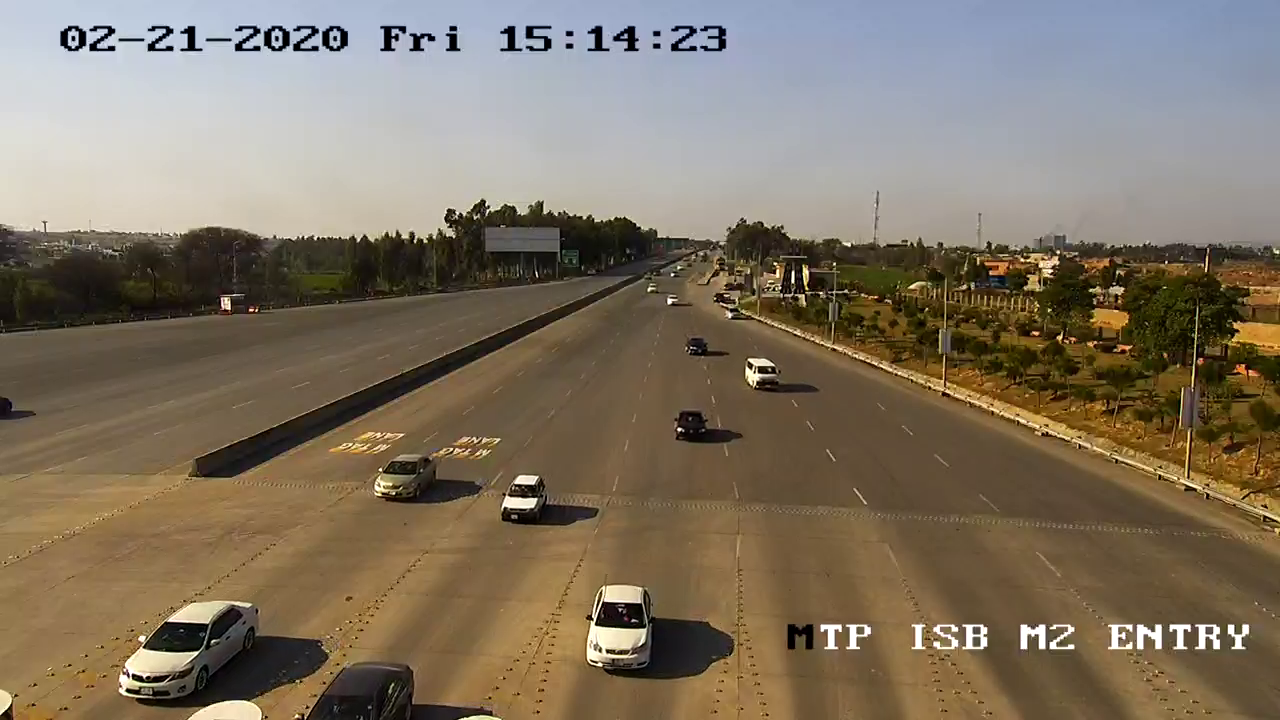f1: (105, 586, 267, 709), (577, 574, 664, 683), (365, 445, 445, 511), (489, 468, 558, 532), (665, 401, 715, 455)
